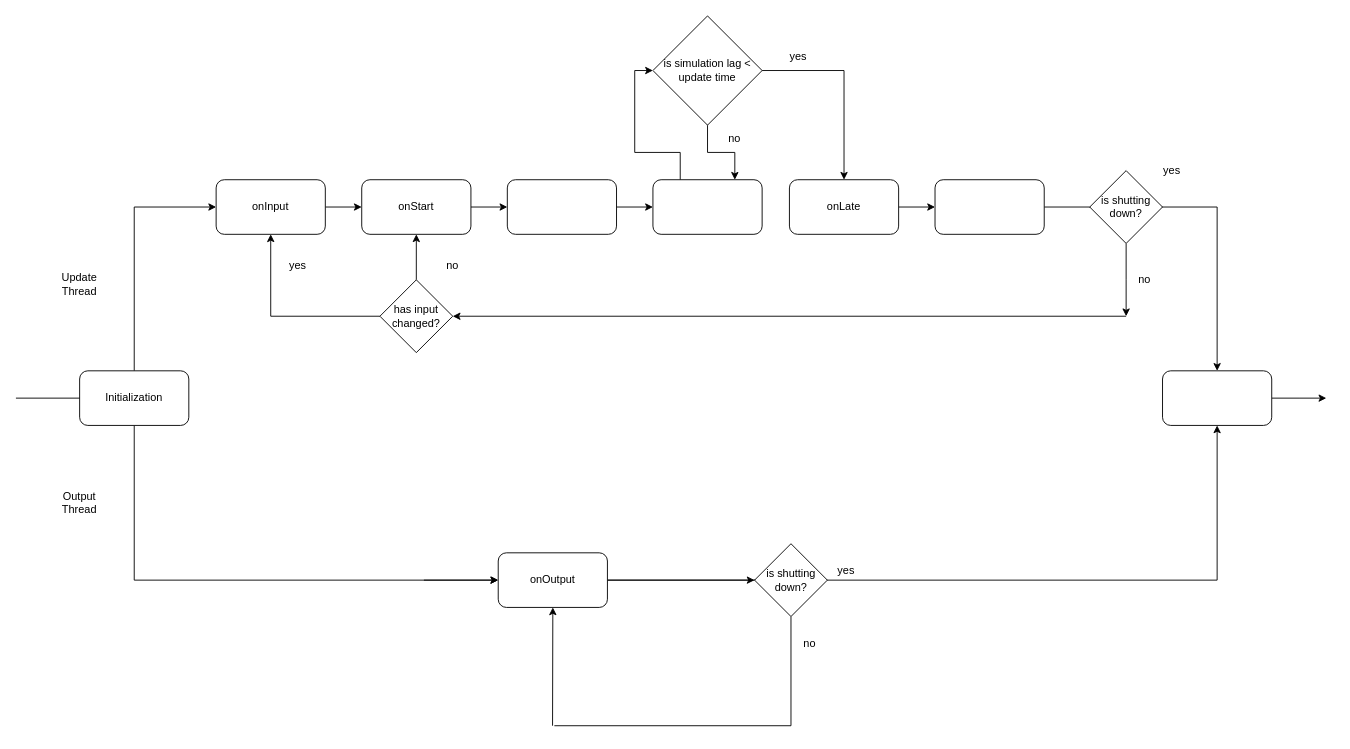
Some shapes in this 1350 by 749 pixel diagram are drawn without their labels. Each missing label, with the centre of its shape:
Finalization: point (1217, 397)
onCompute: point (707, 206)
onFinish: point (989, 206)
onLogic: point (561, 206)
